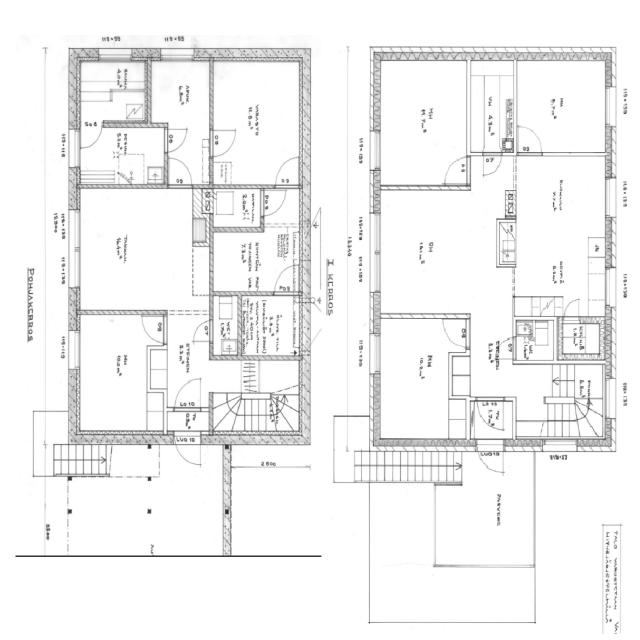door: (175, 432, 201, 477), (478, 438, 504, 482), (174, 378, 200, 411), (478, 397, 503, 431), (518, 124, 542, 156), (443, 319, 471, 346), (209, 130, 236, 157), (140, 316, 167, 343), (444, 157, 471, 184), (169, 157, 192, 188), (260, 190, 287, 216), (274, 266, 297, 296), (81, 120, 102, 152), (276, 159, 297, 188), (164, 130, 188, 152), (191, 320, 213, 341), (495, 338, 516, 359), (484, 152, 502, 176), (564, 299, 580, 323)
